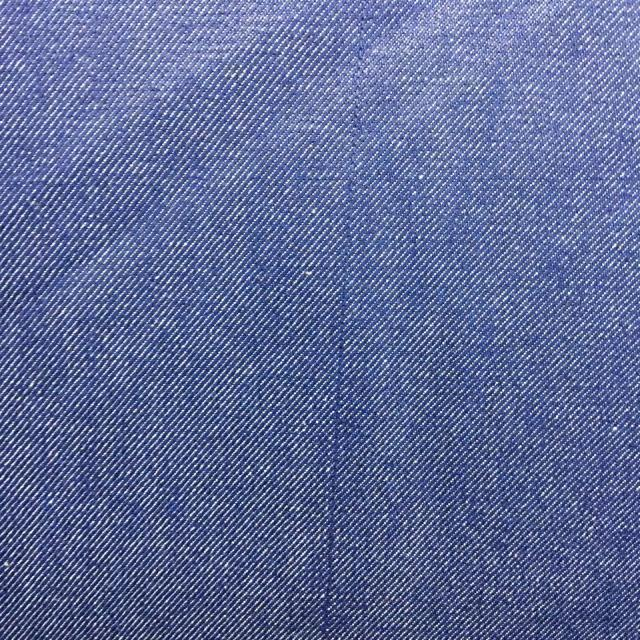Line: (313, 0, 367, 640)
